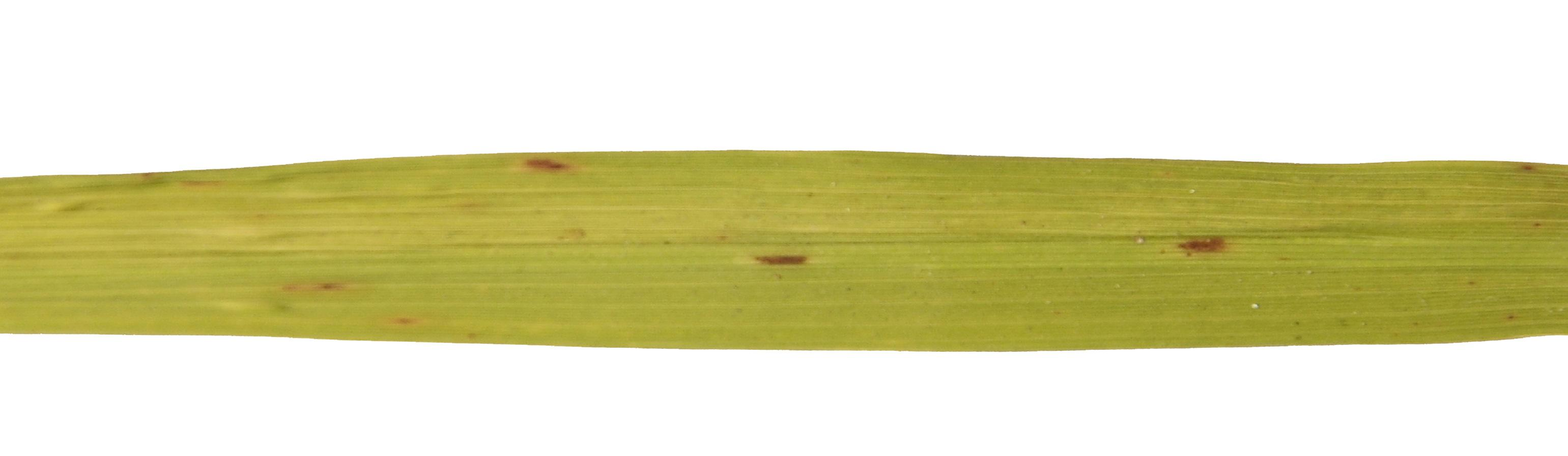Brown spot: (728, 227, 833, 288), (506, 142, 584, 197), (1172, 212, 1233, 271)
